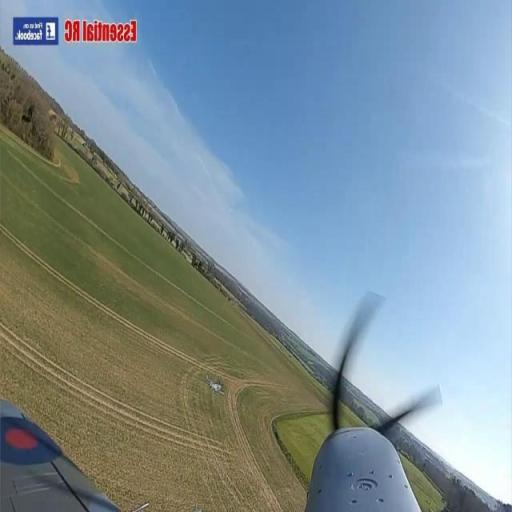uav: (206, 377, 230, 393)
